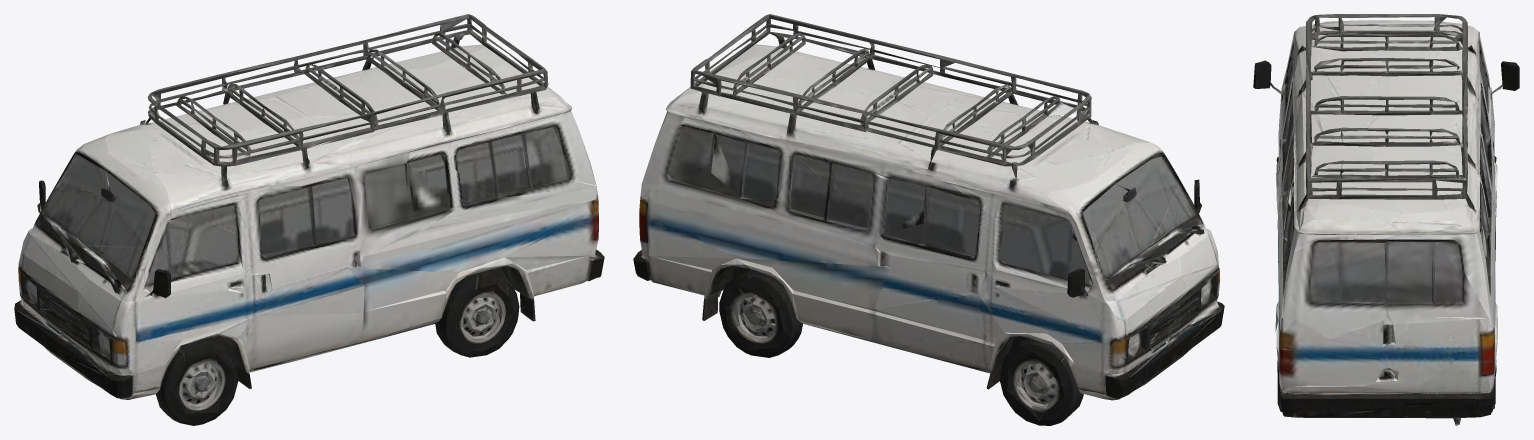
Rendered from bus.glb.
3 views of the same model, side by side, from view 1: azimuth 30°, elevation 25°; view 2: azimuth 150°, elevation 25°; view 3: azimuth 270°, elevation 25° (orthographic). The views are drawn at different scales.
Parts seen in each view (by area): view 1: output_unwrapped; view 2: output_unwrapped; view 3: output_unwrapped.
Part boxes in pixels (x1,y1,x2,y2): output_unwrapped: (14,14,604,425); output_unwrapped: (633,14,1224,425); output_unwrapped: (1253,14,1519,425).
Bounding box in the file's own units: 1.9 × 0.9509 × 0.8551.
Materials: 1 (1 with a texture image).
